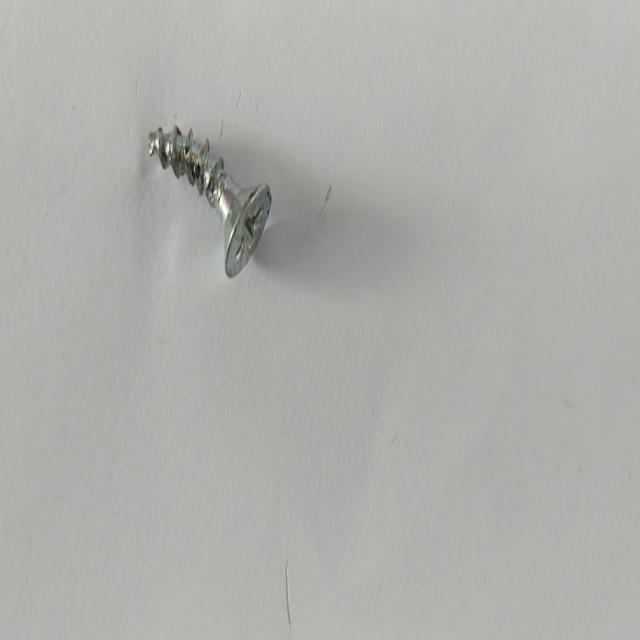Dry Waste: (128, 108, 302, 292)
